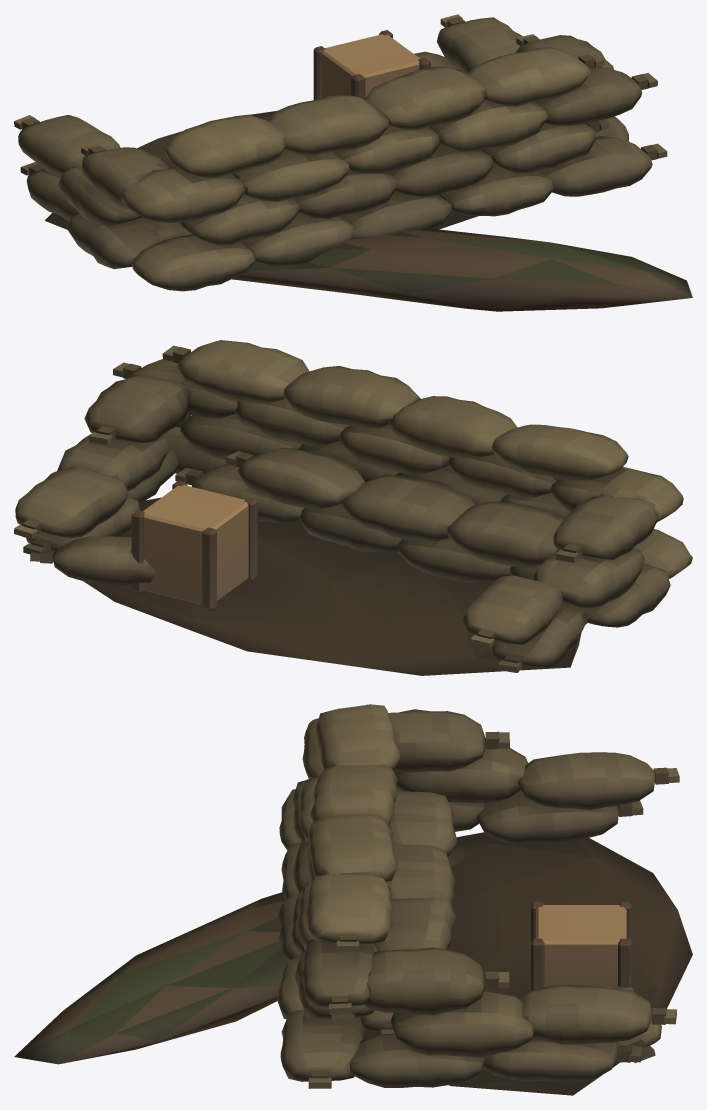
The model's file is siper.glb.
The picture shows the model from 3 angles, top to bottom: view 1: azimuth 30°, elevation 25°; view 2: azimuth 150°, elevation 25°; view 3: azimuth 270°, elevation 25°; orthographic projection. The views are drawn at different scales.
Visible parts, largest first — view 1: sand-bags-001, sand-003, plank-001, sand-ground-002; view 2: sand-bags-001, sand-ground-002, plank-001; view 3: sand-bags-001, sand-ground-002, sand-003, plank-001.
Part boxes in pixels (x1,y1,x2,y2): sand-bags-001: [14, 14, 667, 291]; sand-003: [232, 229, 692, 311]; plank-001: [313, 30, 430, 100]; sand-ground-002: [45, 111, 478, 229]; sand-bags-001: [14, 340, 692, 672]; sand-ground-002: [54, 497, 581, 675]; plank-001: [131, 480, 257, 609]; sand-bags-001: [277, 704, 679, 1088]; sand-ground-002: [363, 832, 692, 1095]; sand-003: [14, 846, 466, 1064]; plank-001: [531, 902, 631, 990].
Size of the model in its own units: 3.11 by 0.9231 by 2.99.
